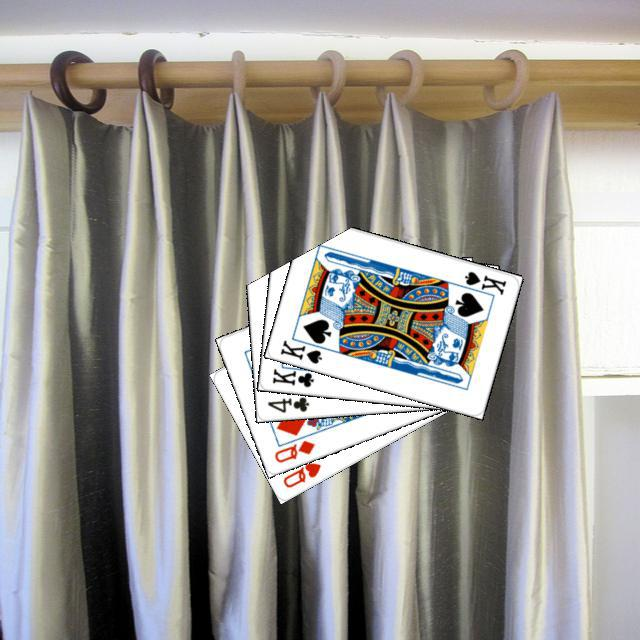4c: (263, 392, 311, 414)
Kc: (267, 360, 321, 389)
Ks: (453, 266, 508, 298), (275, 335, 324, 365)
Qd: (269, 435, 316, 465)
Qh: (278, 457, 323, 489)
